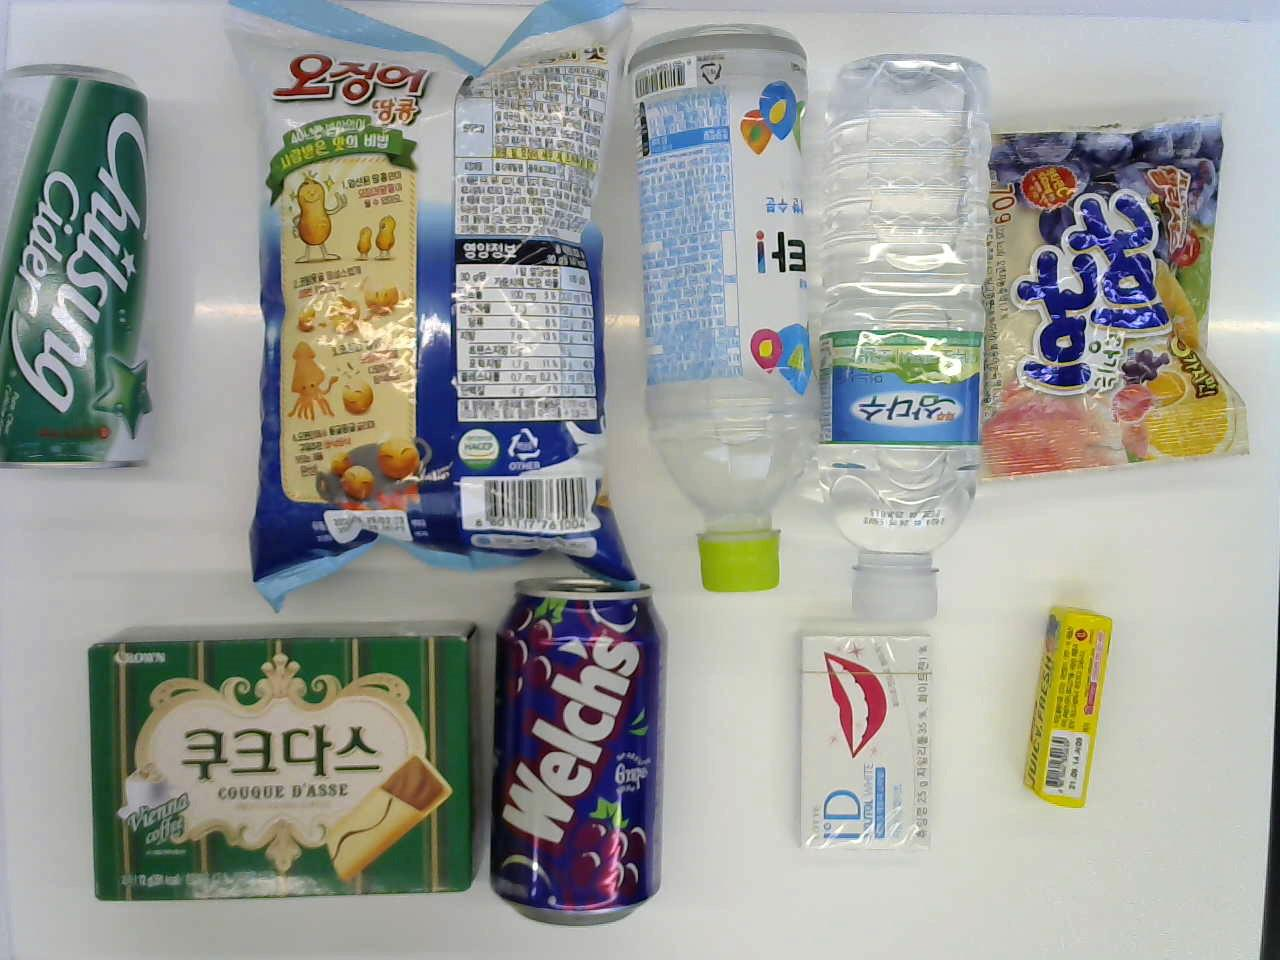ID_gum: (790, 618, 938, 876)
cidar: (3, 56, 160, 477)
couque_coffee: (83, 609, 476, 896)
gumi_gumi: (987, 110, 1232, 502)
juicyfresh: (1027, 591, 1130, 806)
samdasu: (809, 46, 997, 621)
squid_peanut: (232, 0, 623, 609)
toreta: (643, 26, 822, 596)
welchs: (484, 579, 690, 923)
